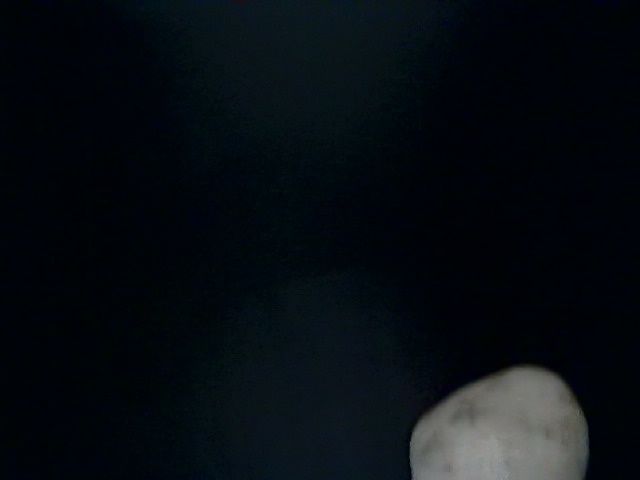QTLJ: (155, 1, 372, 146)
